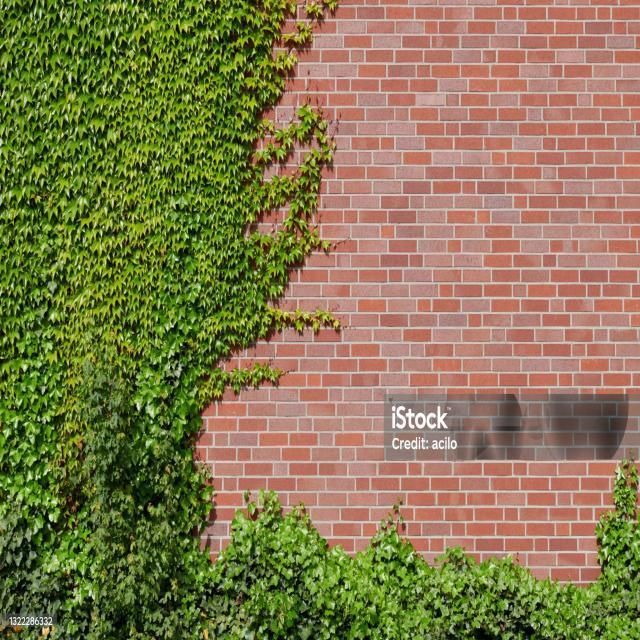crack: (464, 62, 633, 219), (380, 3, 634, 41), (540, 241, 640, 312), (396, 245, 479, 288)
dampness: (599, 3, 640, 348)
vegetation: (7, 351, 215, 640), (4, 350, 93, 558), (245, 86, 341, 278), (267, 104, 331, 162), (275, 1, 341, 54)
